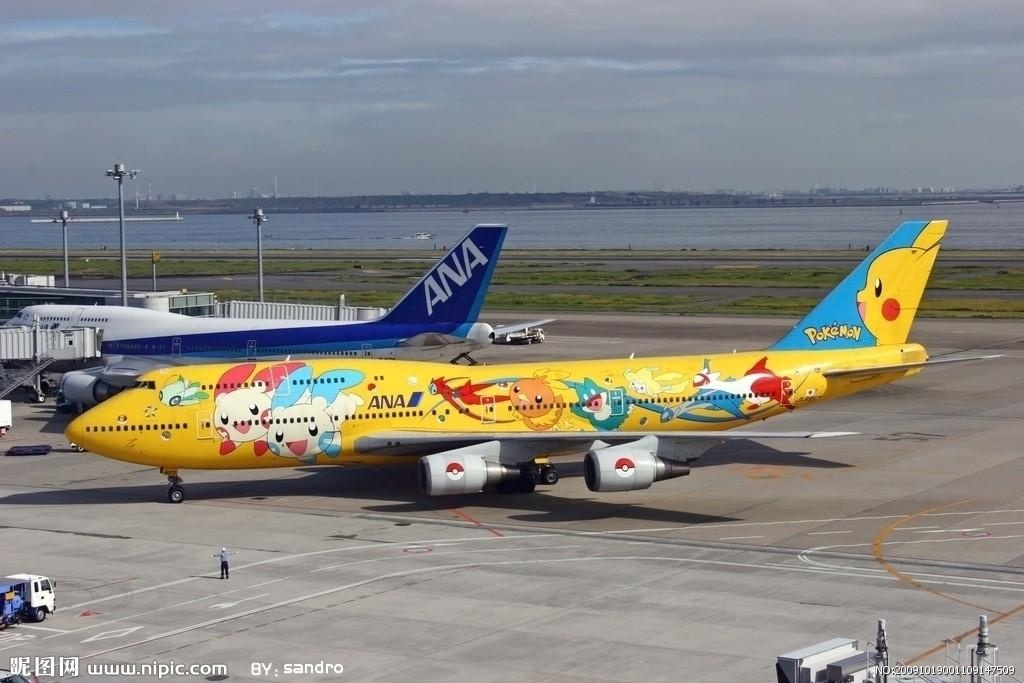airplane: (69, 218, 974, 506), (1, 222, 521, 371)
